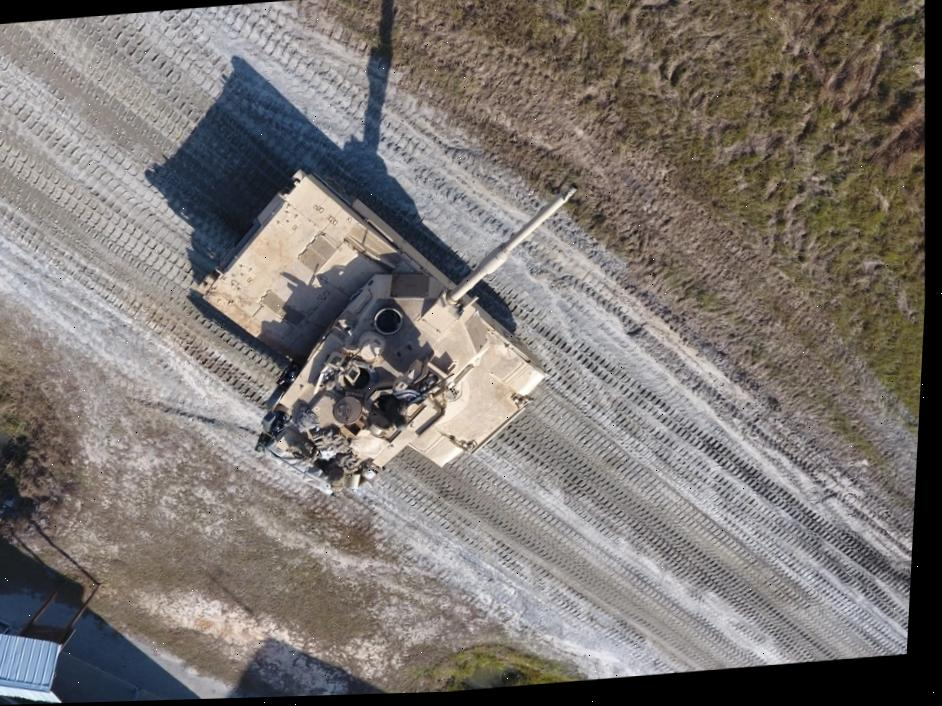tank: (173, 144, 604, 507)
